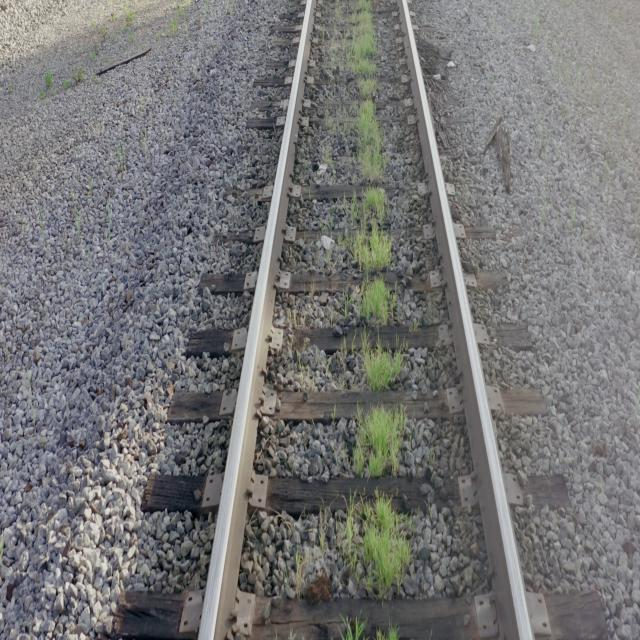Plant: (344, 496, 410, 598), (349, 2, 386, 180), (352, 407, 406, 478), (351, 184, 391, 271), (361, 340, 401, 391), (360, 276, 395, 322), (344, 620, 365, 638), (378, 627, 398, 638)
